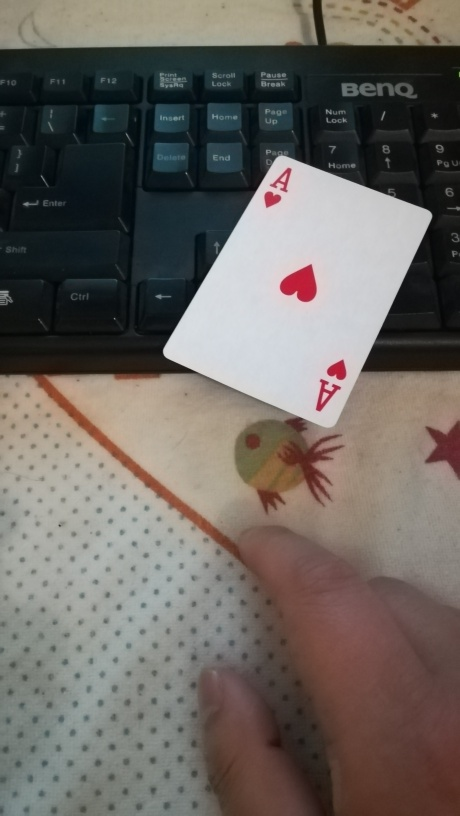hx a: (162, 152, 433, 429)
